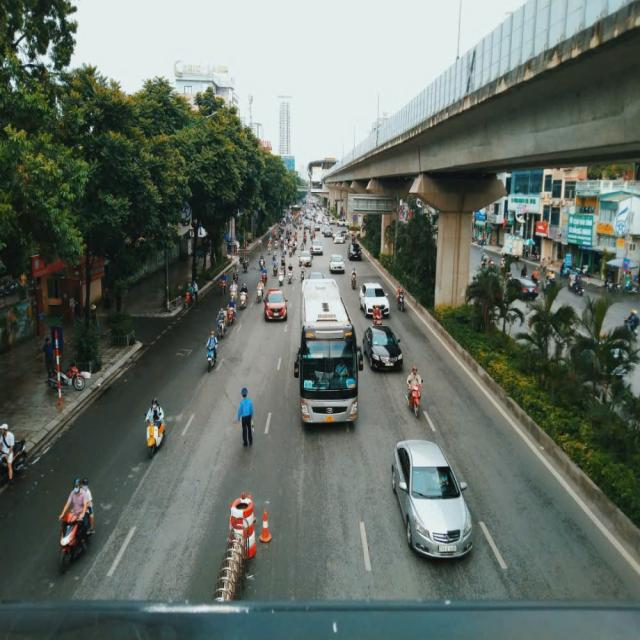Bus: (299, 278, 359, 426)
car: (393, 439, 464, 562), (365, 327, 404, 372), (262, 284, 288, 325), (358, 283, 388, 317), (348, 241, 362, 260), (332, 254, 344, 274), (334, 232, 346, 245), (301, 252, 312, 265), (312, 240, 322, 254), (337, 218, 349, 227), (324, 228, 333, 237), (303, 221, 311, 229), (314, 224, 320, 232)
motobyte: (59, 480, 93, 565), (144, 397, 167, 457), (408, 364, 421, 417), (205, 330, 218, 372), (216, 309, 226, 339), (397, 286, 406, 312), (373, 304, 383, 325), (240, 285, 248, 309), (228, 300, 236, 324), (256, 280, 263, 304), (258, 253, 265, 270), (351, 268, 357, 287), (221, 273, 226, 295), (230, 283, 236, 301), (278, 268, 284, 284), (233, 265, 238, 284), (300, 264, 305, 282), (243, 254, 248, 272), (272, 261, 278, 275), (288, 266, 292, 284), (262, 268, 266, 282), (288, 244, 292, 258), (281, 259, 286, 269), (274, 238, 278, 250), (303, 232, 307, 244), (259, 238, 262, 252), (293, 241, 296, 255), (278, 228, 282, 238), (294, 231, 298, 241), (281, 239, 284, 252), (273, 251, 277, 260), (280, 251, 284, 259), (313, 229, 316, 239), (268, 242, 270, 255), (285, 241, 287, 254), (274, 226, 276, 238), (301, 242, 303, 252), (290, 226, 292, 236), (310, 231, 312, 241), (286, 228, 288, 237), (288, 234, 290, 242)
